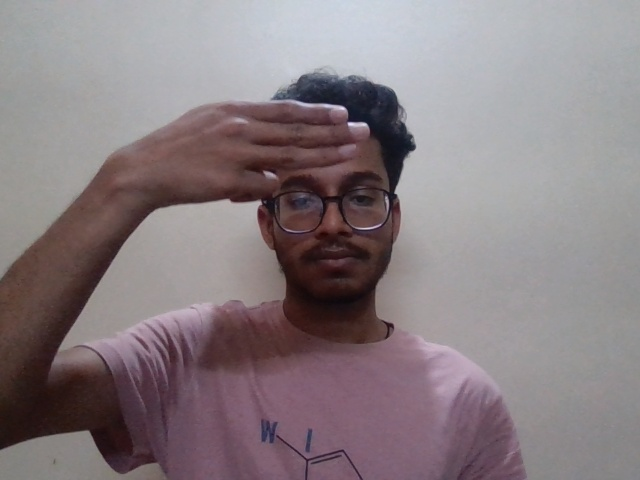wednesday: (116, 98, 360, 215)
